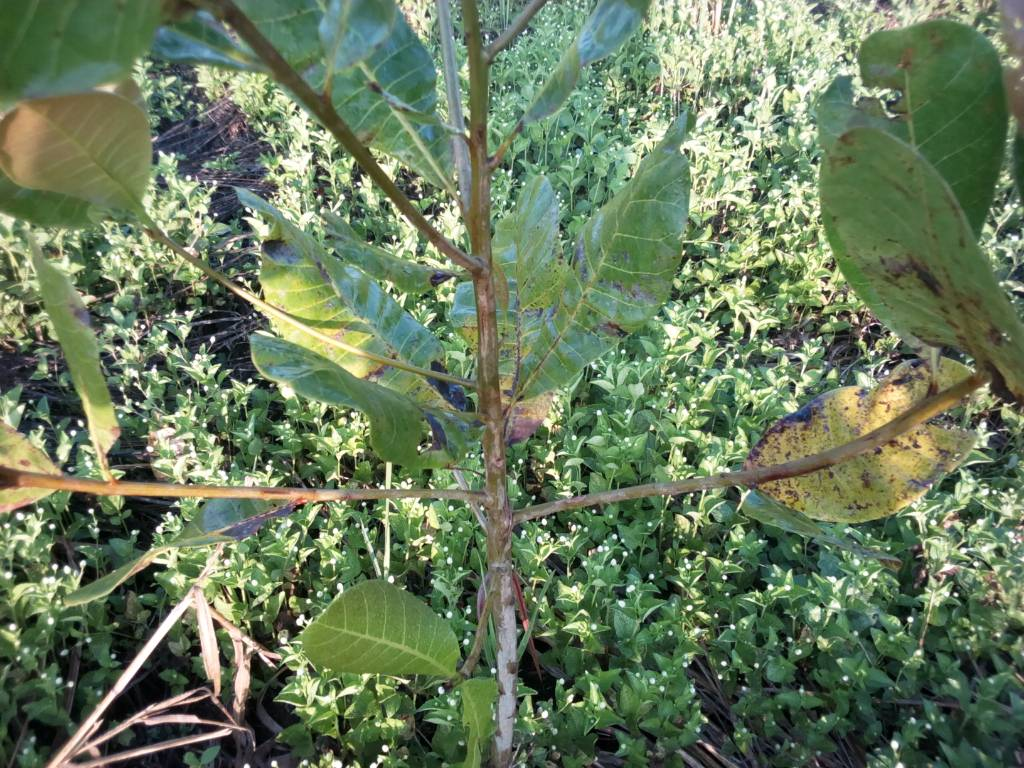Anthracnose: (813, 132, 1023, 412), (738, 362, 992, 525)
